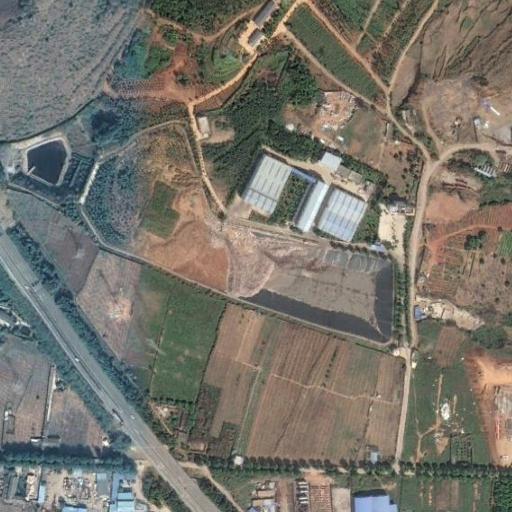lf: (210, 216, 395, 343)
